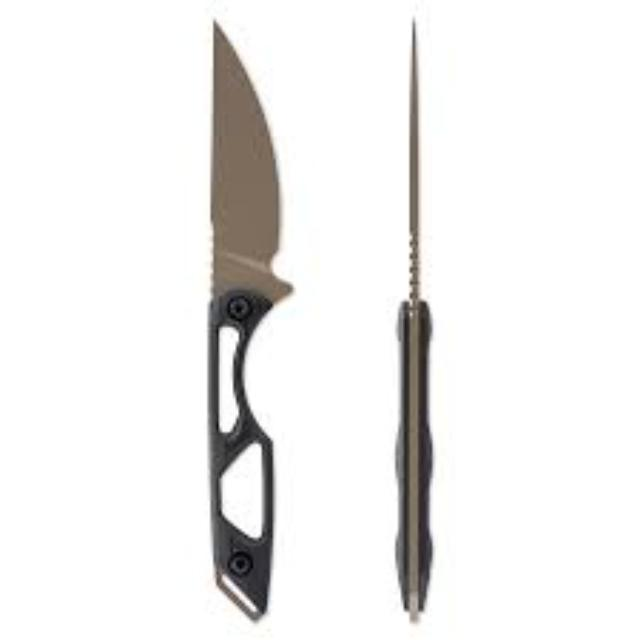knife: (205, 18, 293, 620), (392, 12, 432, 620)
